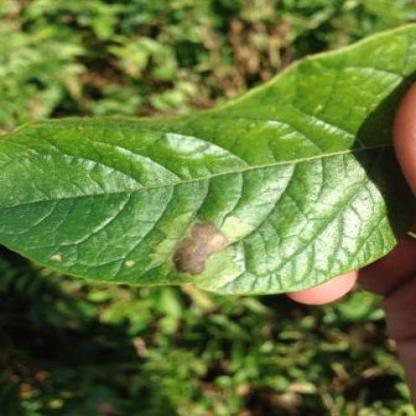potato leaf late blight: (4, 29, 415, 286)
